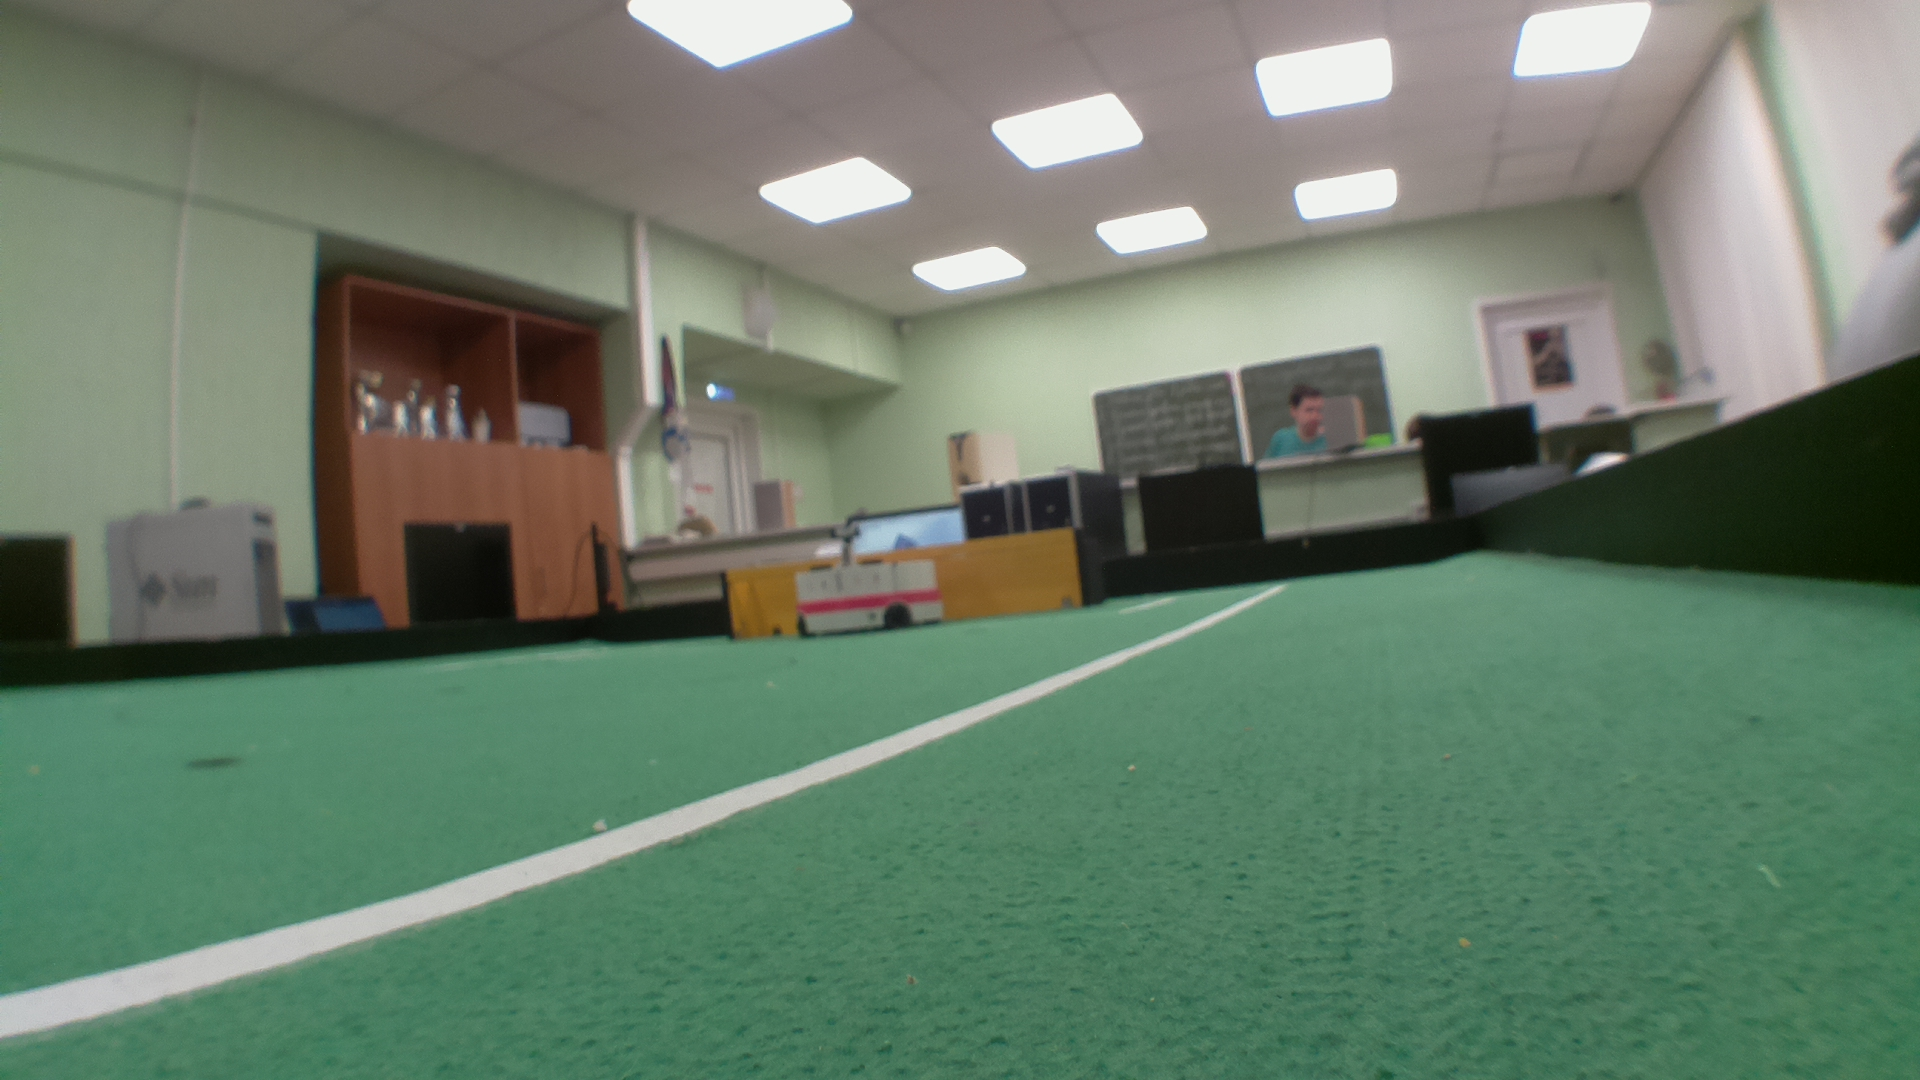YellowGoal: (724, 529, 1081, 618)
